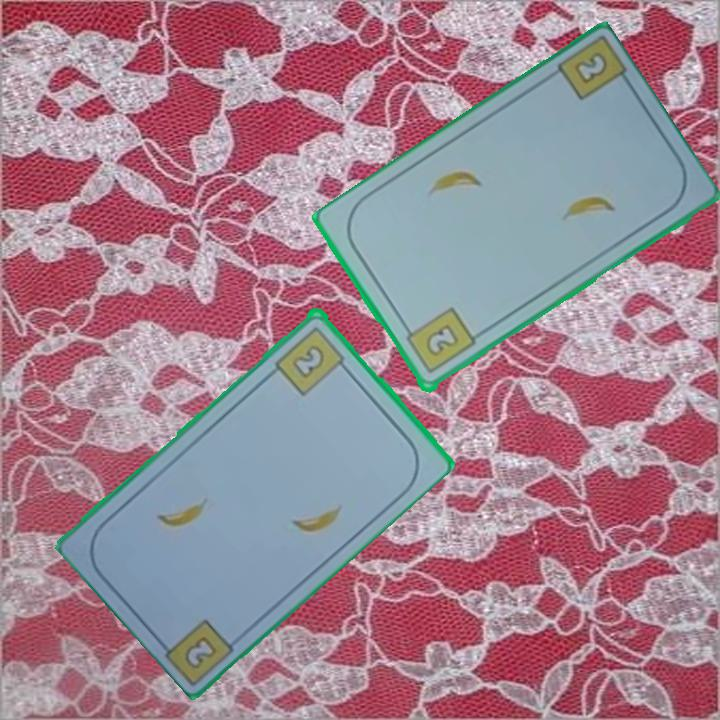2b: (271, 322, 352, 398), (400, 304, 478, 378), (180, 631, 220, 672), (570, 48, 611, 88)
